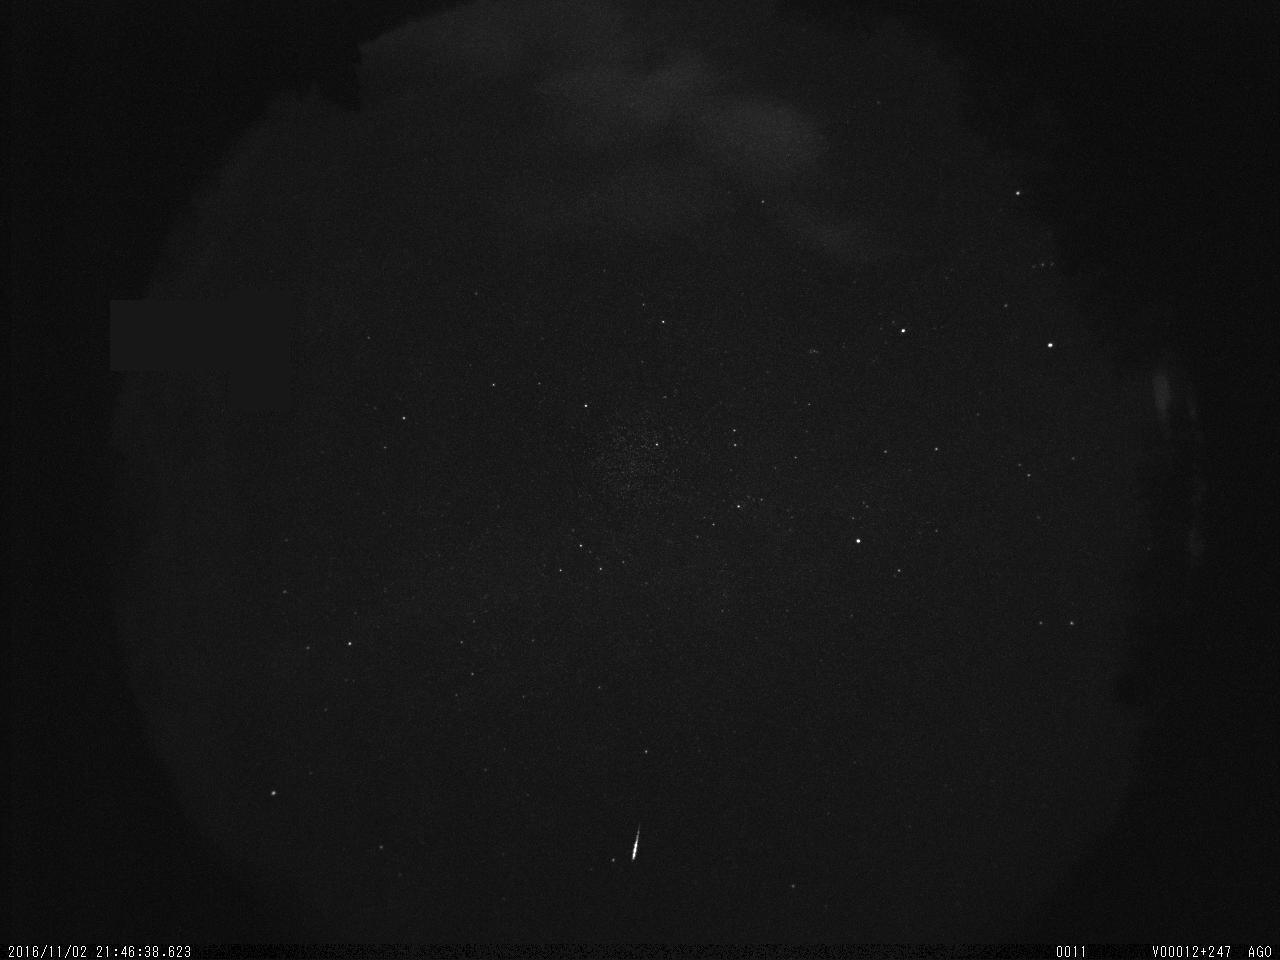meteor: (624, 830, 645, 866)
